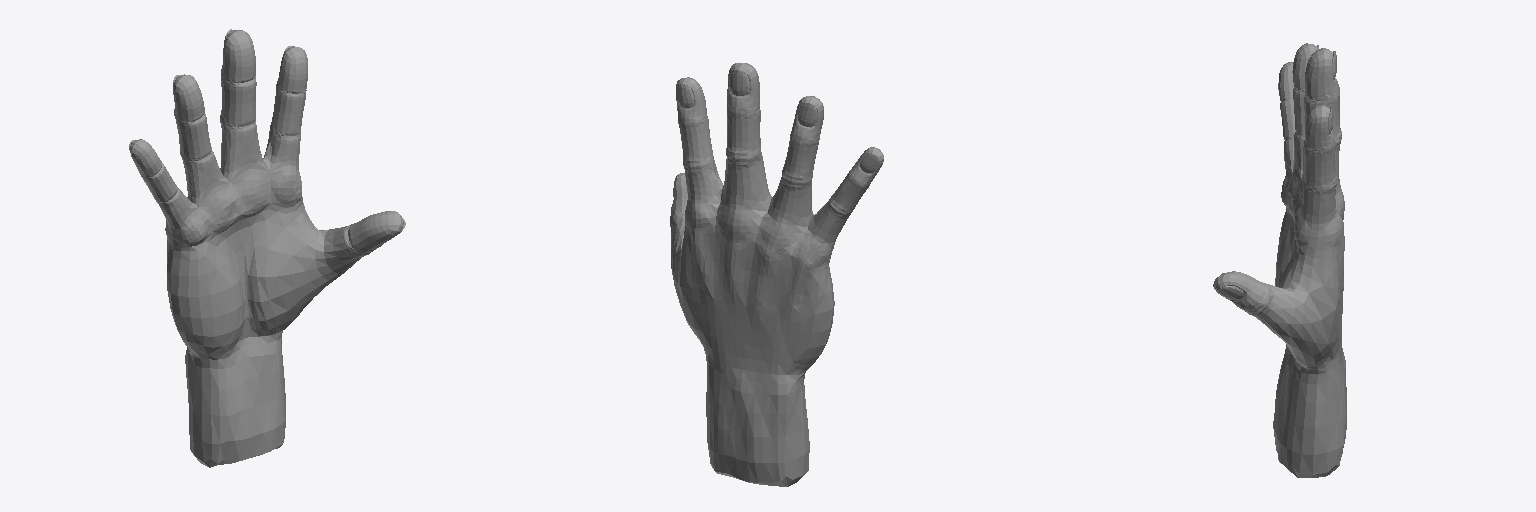
The model's file is hand.obj.
The picture shows the model from 3 angles: view 1: azimuth 30°, elevation 25°; view 2: azimuth 150°, elevation 25°; view 3: azimuth 270°, elevation 25°; orthographic projection.
Bounding box in the file's own units: 164 × 270 × 78.98.